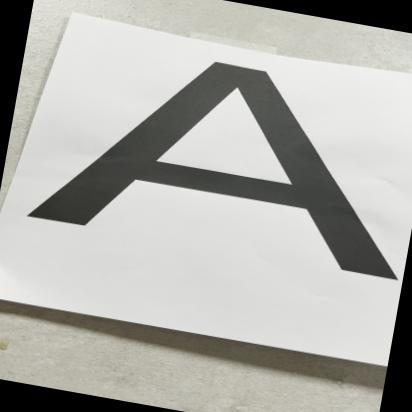seat: (28, 24, 412, 302)
